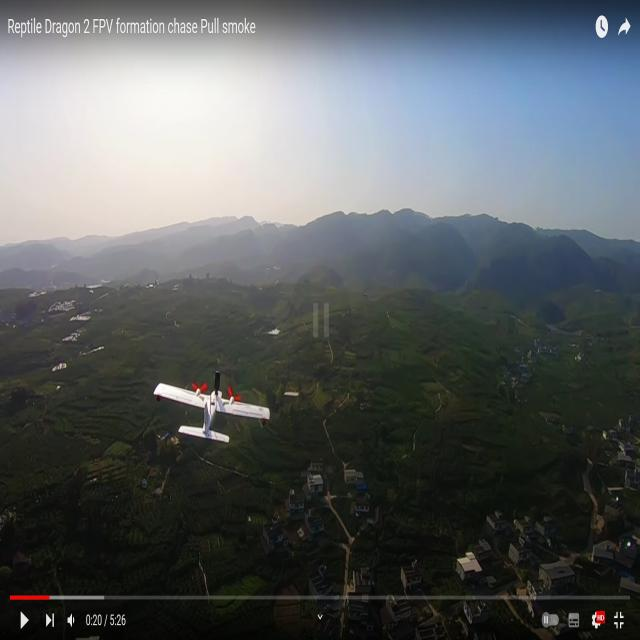iha: (188, 405, 239, 407)
